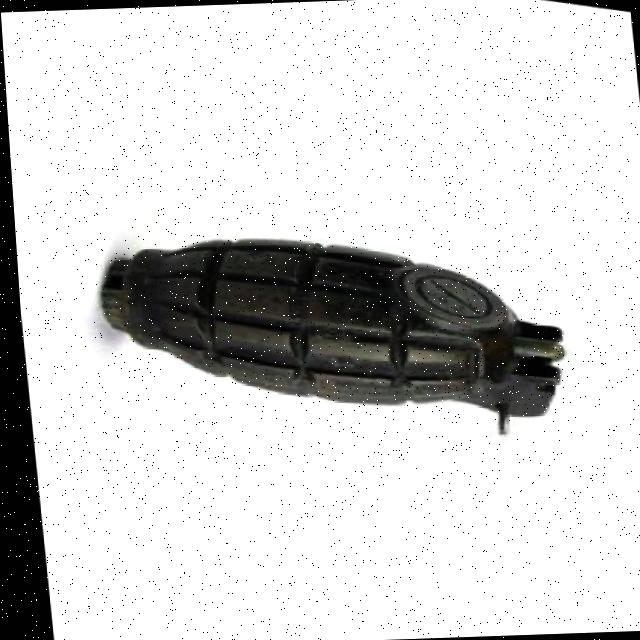grenade: (72, 184, 594, 456)
